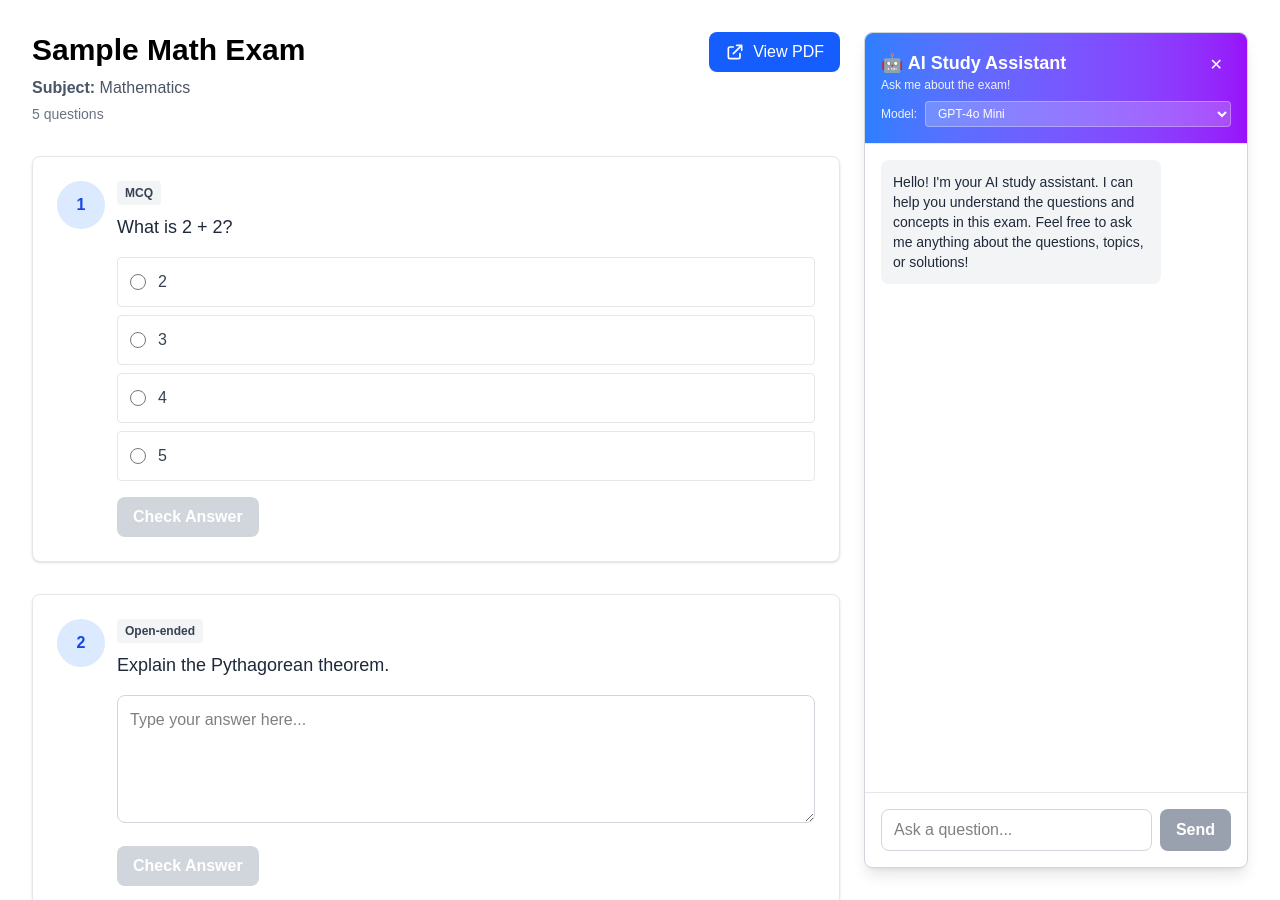
ExamViewer › should highlight correct MCQ answer in green
Check: the text "What is 2 + 2?" is shown, box [117,217,233,237]
What coordinates should you click on to do the following:
click the radio button labelled "4"
I would click on:
 (138, 398)
Its box is [130,390,146,406].
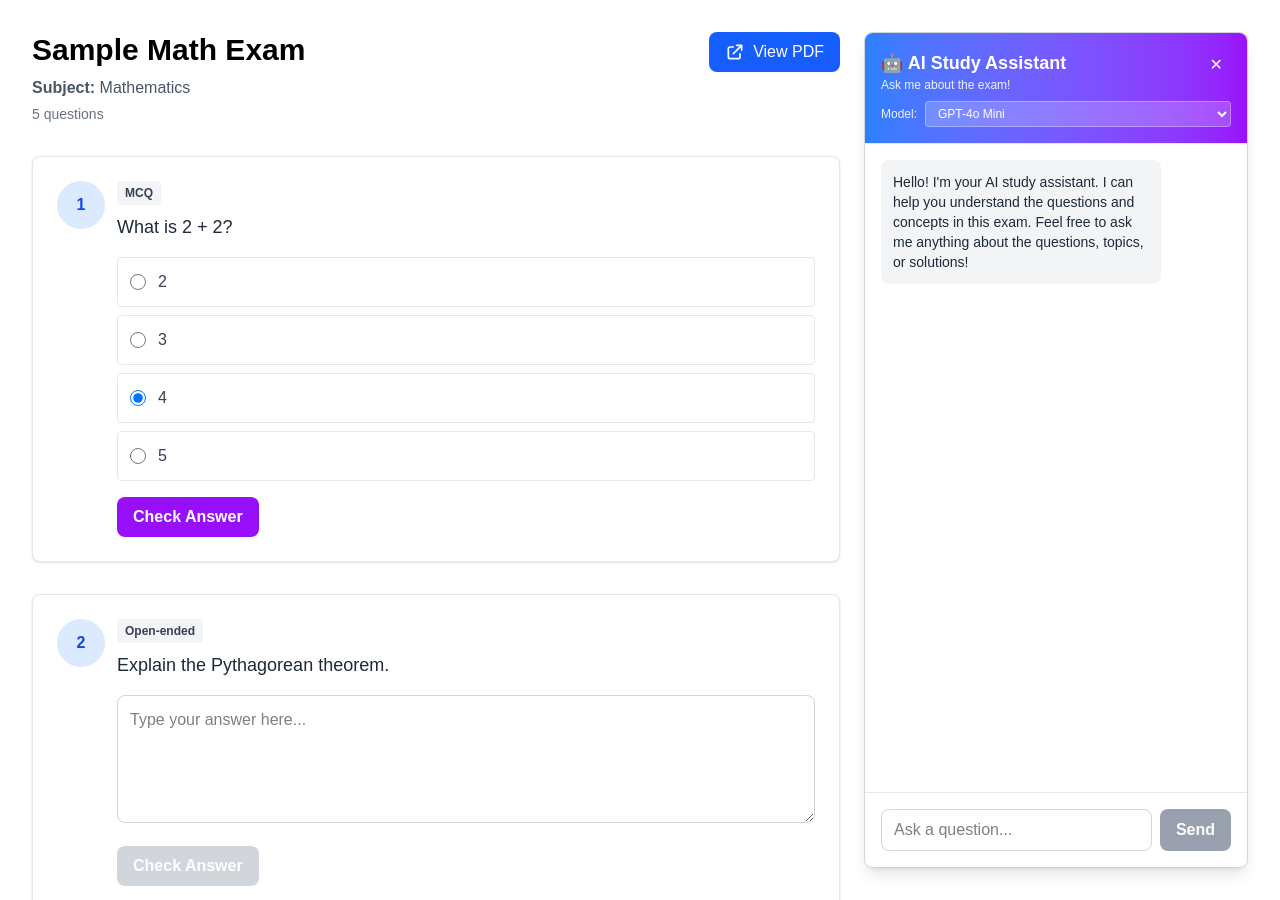
Note: Click Check Answer
What coordinates should you click on to do the following:
click the button with test id "check-answer-1"
I would click on:
 (188, 517)
Its box is [117,497,259,537].
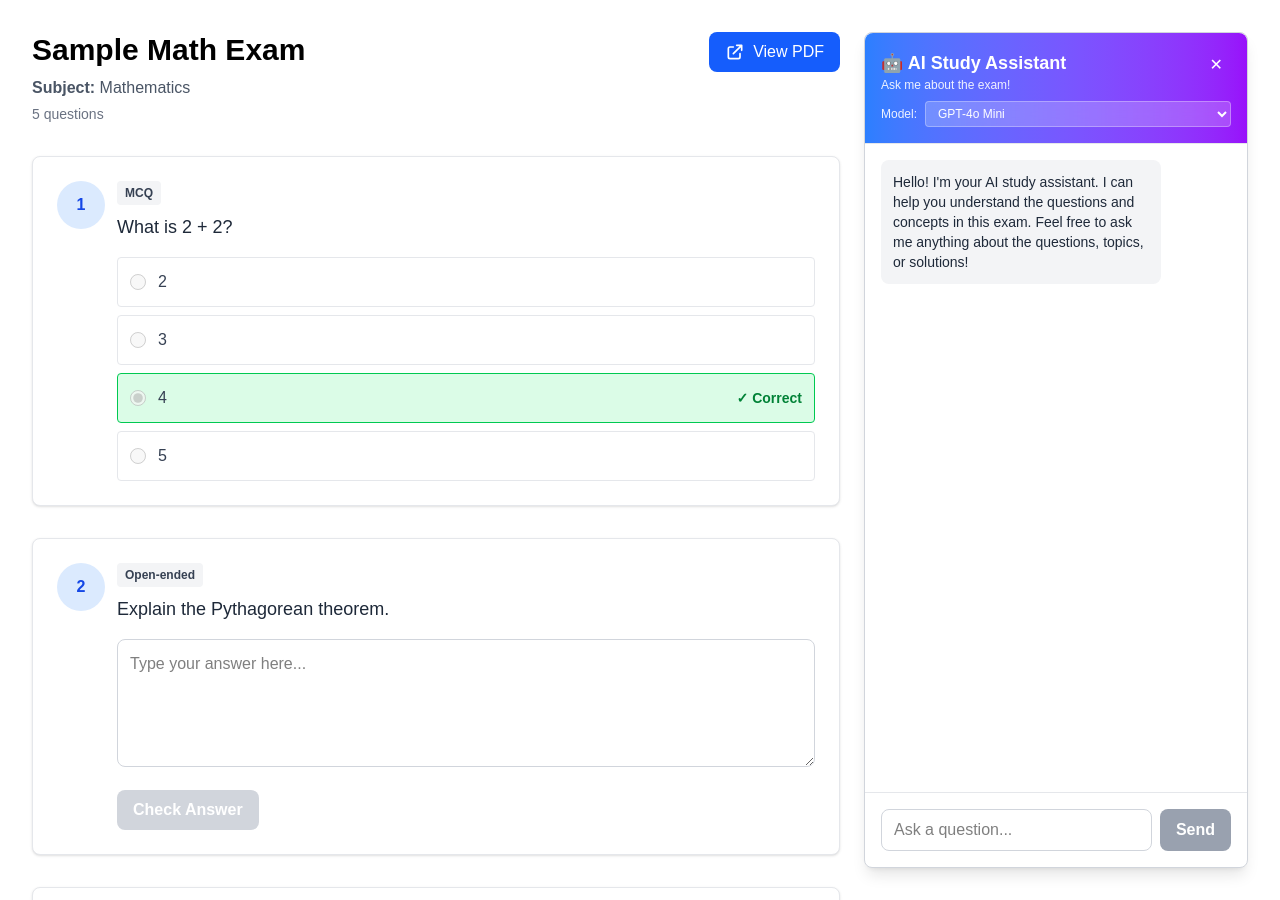
Check: the text "✓ Correct" is shown, box [737,388,802,408]
